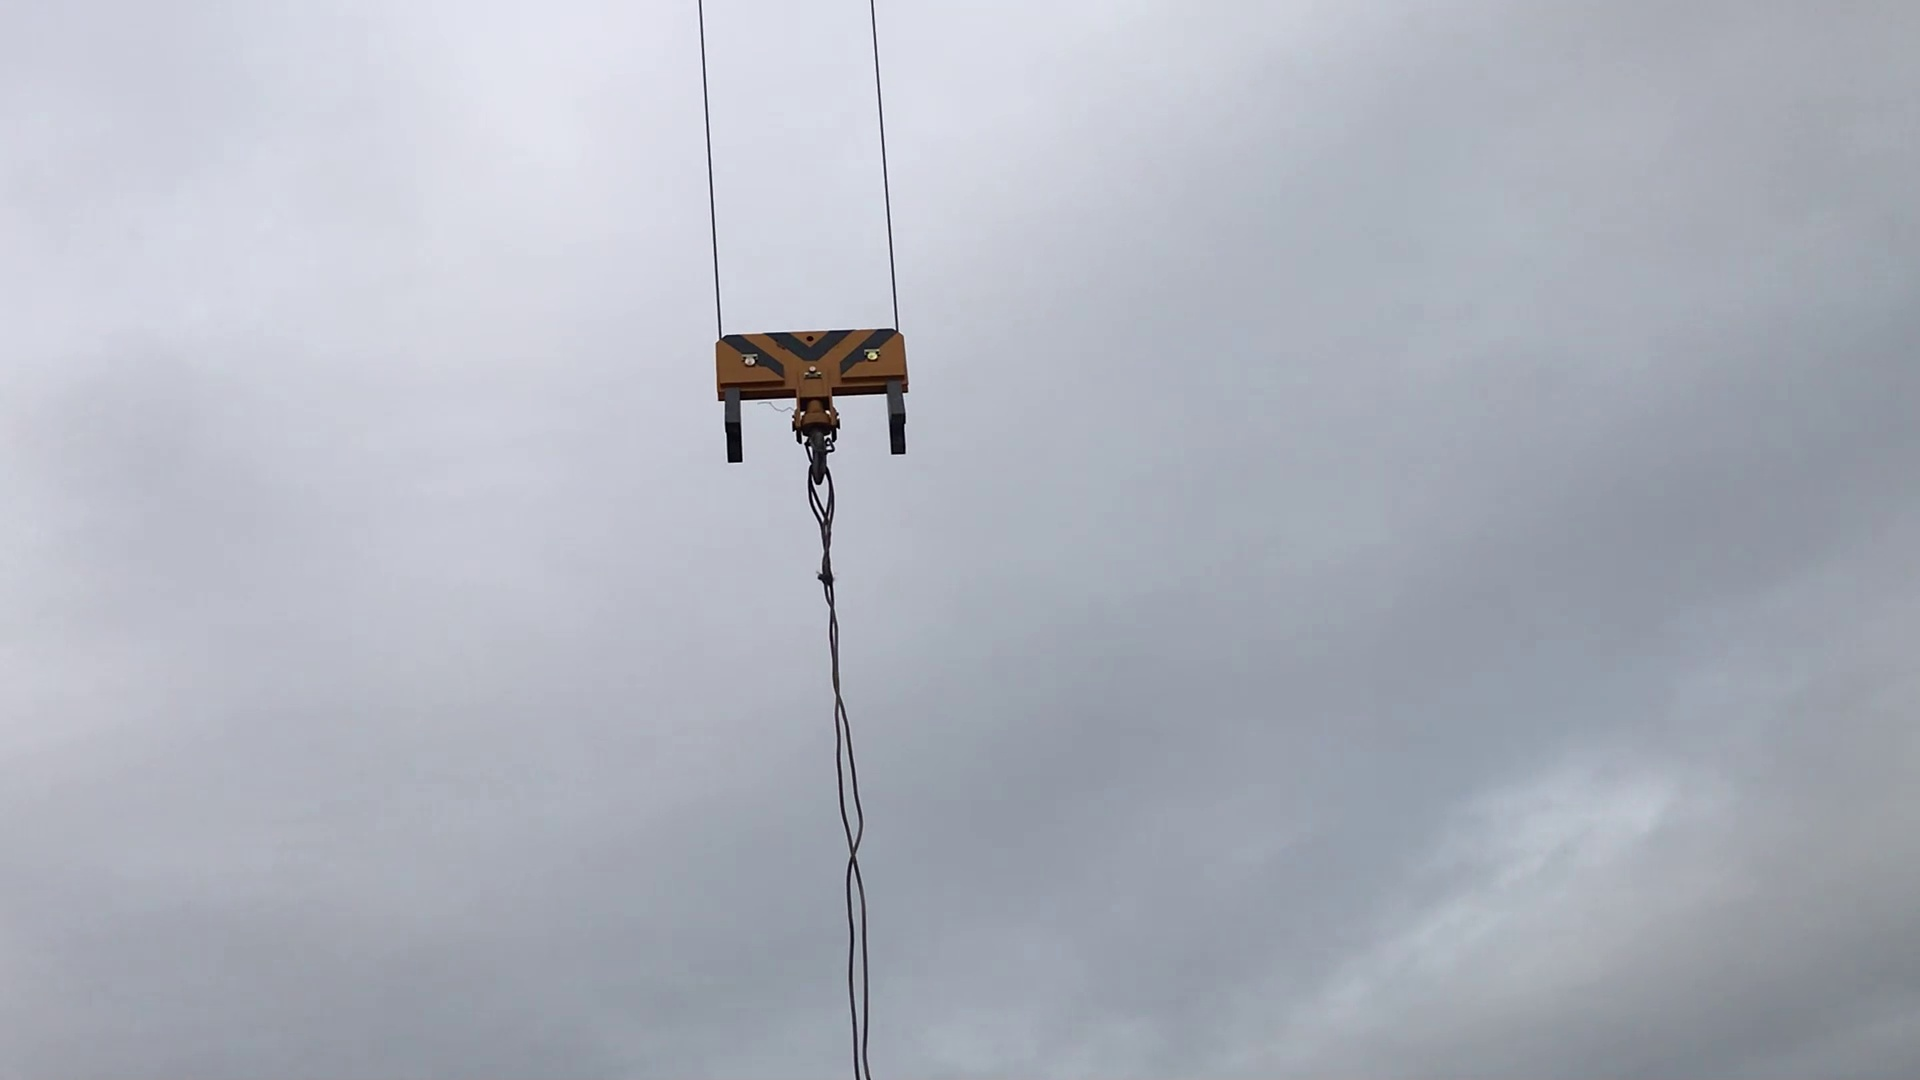hook: (692, 314, 956, 506)
